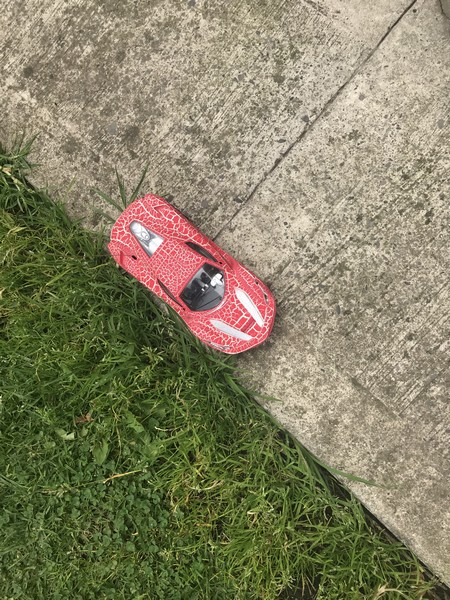RC: (105, 193, 275, 359)
